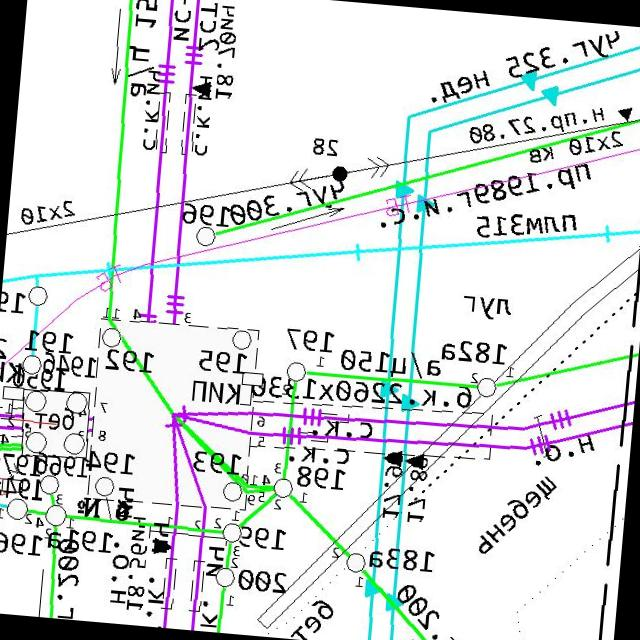mark: (401, 449, 427, 472), (150, 534, 173, 558), (188, 79, 214, 99), (381, 447, 404, 469), (615, 105, 633, 124)
sing: (236, 369, 264, 408), (0, 383, 25, 422)
well: (22, 426, 50, 456), (282, 357, 310, 385), (192, 222, 219, 250), (473, 373, 500, 401), (22, 387, 49, 415), (61, 430, 88, 458), (342, 548, 369, 576), (64, 388, 90, 417), (228, 326, 254, 353), (42, 501, 68, 528), (218, 520, 245, 546), (24, 282, 50, 308), (270, 475, 296, 501), (220, 478, 246, 504), (90, 473, 116, 499), (4, 496, 30, 522), (98, 325, 124, 350), (18, 352, 44, 377), (212, 564, 237, 590), (37, 472, 62, 497)
